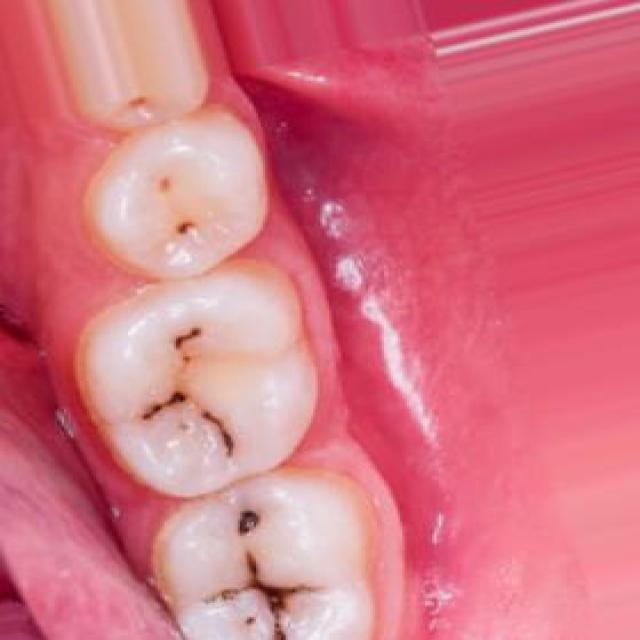caries: (190, 545, 329, 640), (119, 377, 255, 463), (134, 164, 230, 254), (134, 311, 222, 376), (215, 494, 276, 545)
